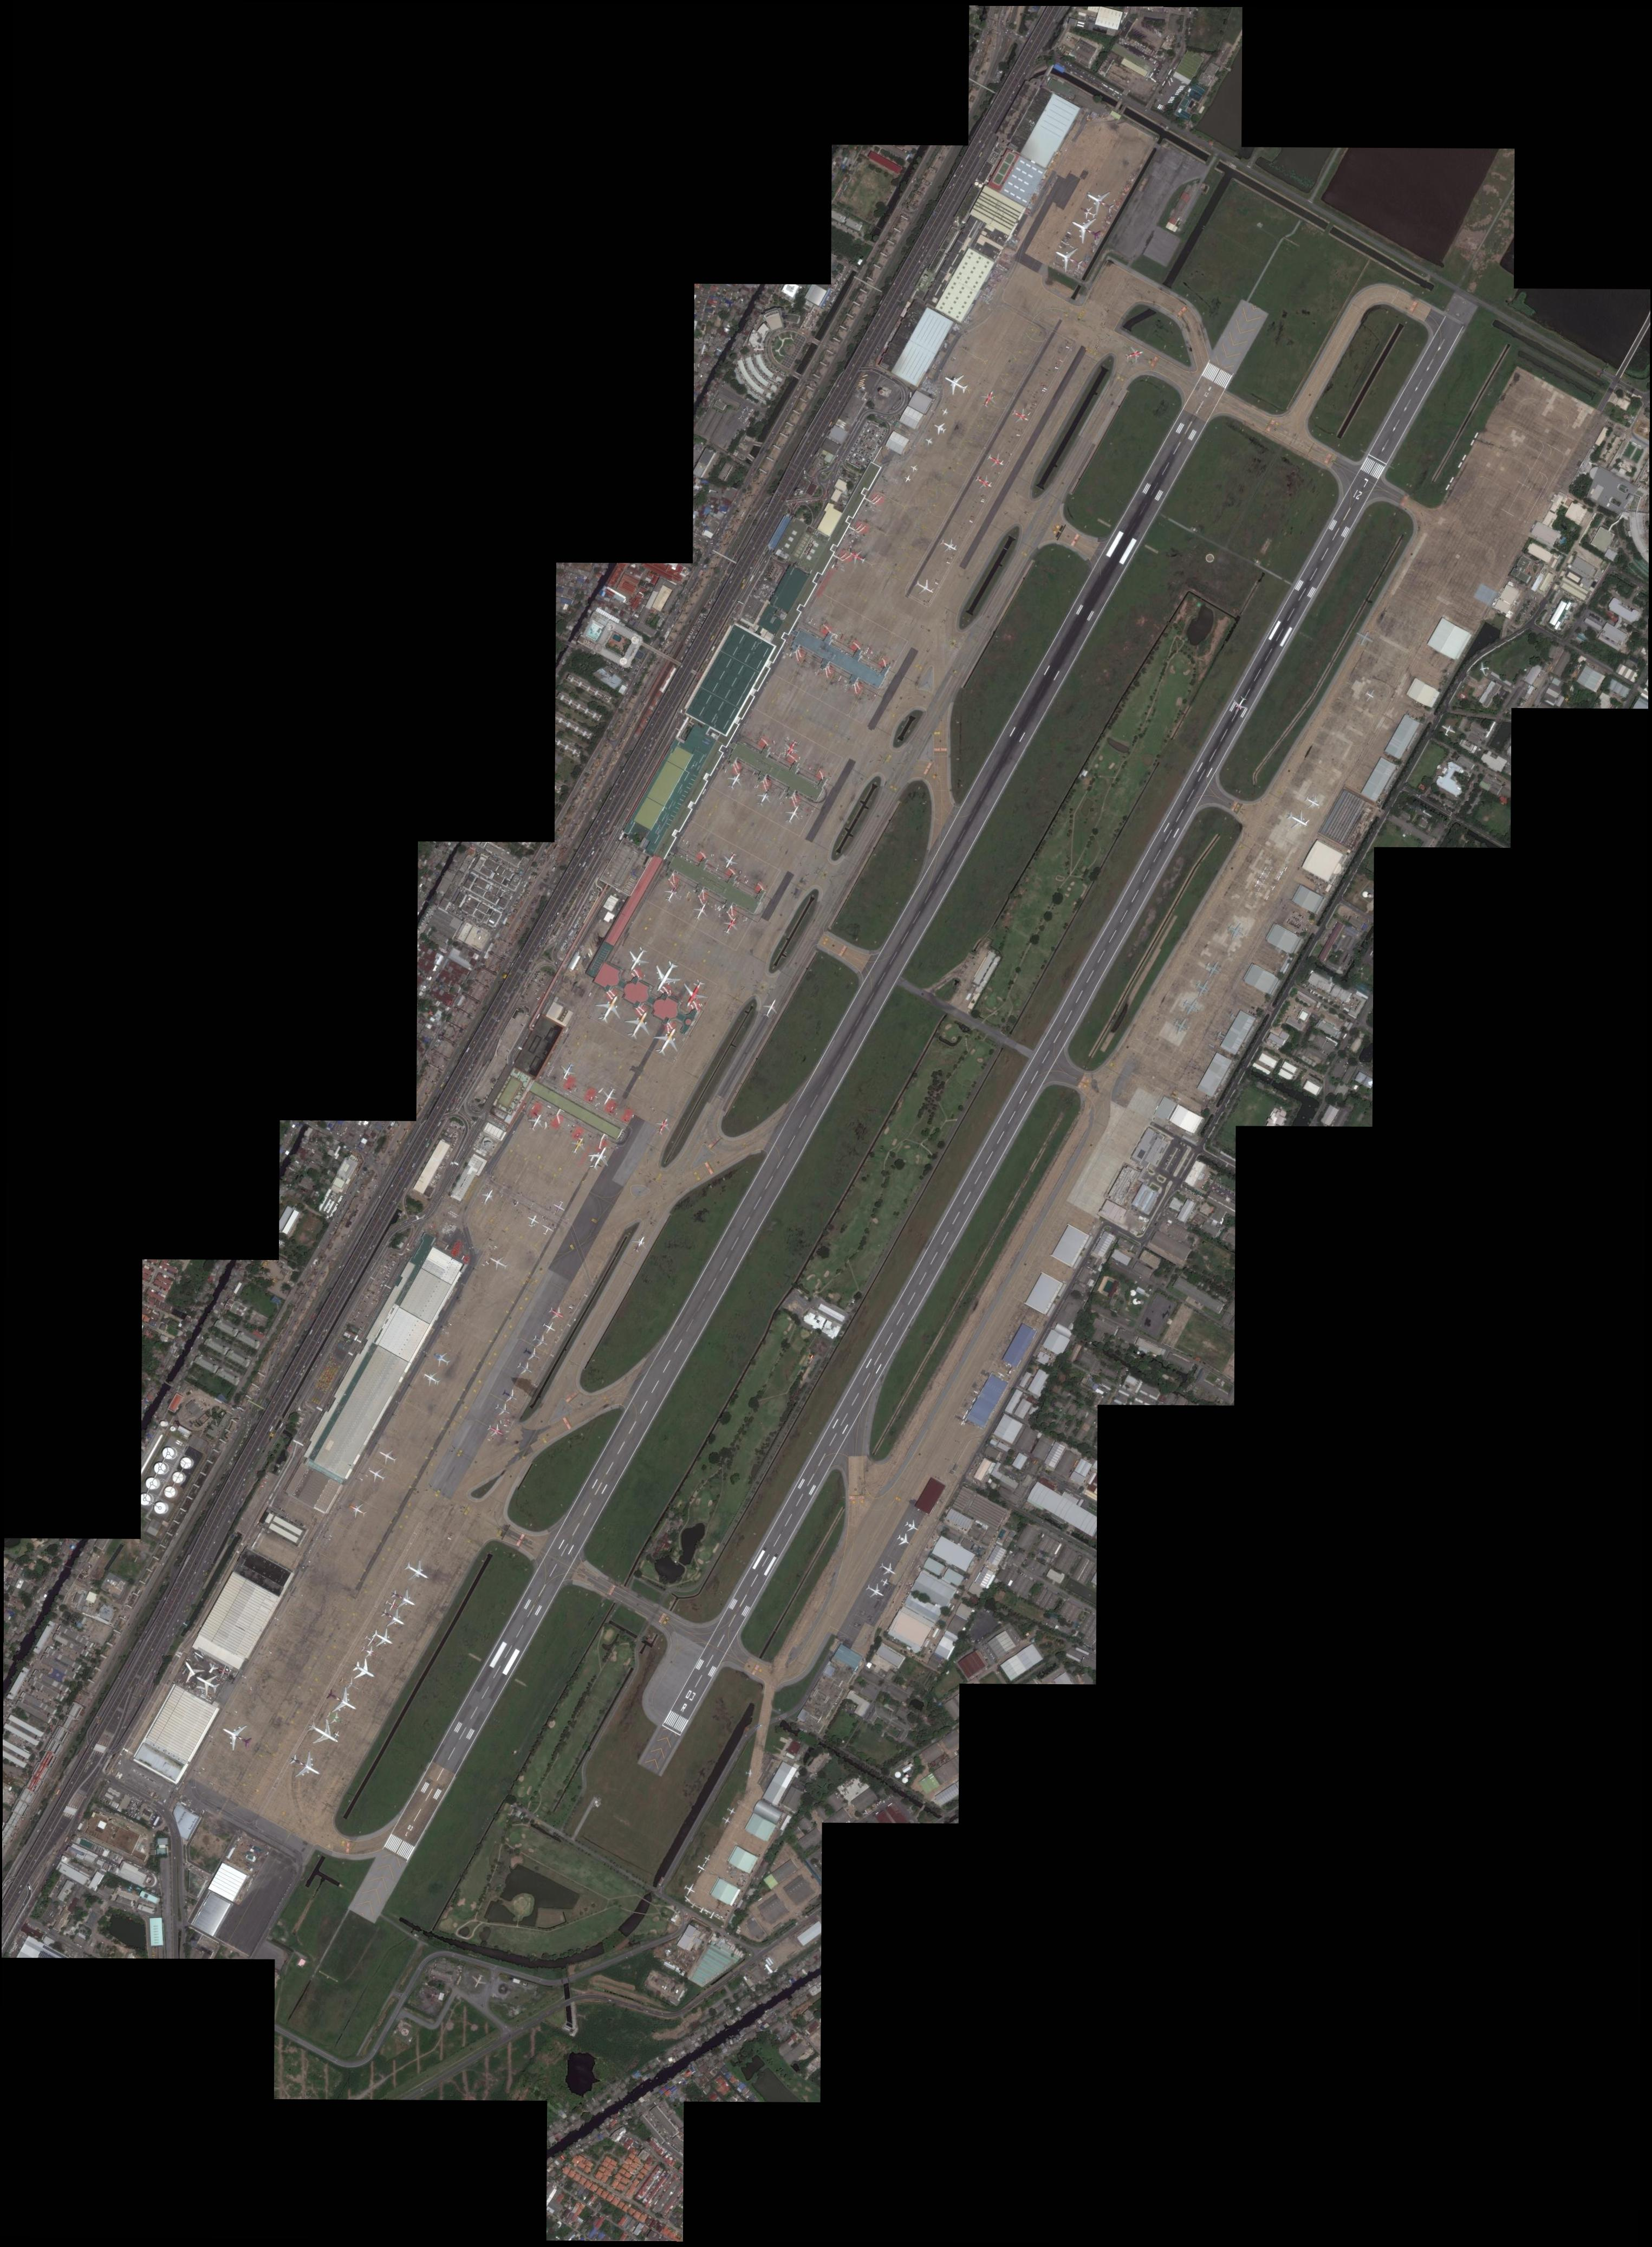plane: (285, 1746, 327, 1787), (646, 956, 686, 998), (303, 1714, 345, 1754), (322, 1681, 363, 1721), (217, 1716, 257, 1757), (1066, 208, 1106, 249), (648, 1021, 687, 1061), (590, 988, 629, 1028), (675, 973, 713, 1014), (620, 1005, 658, 1044), (1081, 183, 1120, 219), (1050, 241, 1087, 276), (622, 943, 654, 977), (401, 1556, 435, 1587), (584, 1140, 616, 1174), (939, 368, 972, 400), (191, 1667, 223, 1699), (388, 1583, 420, 1614), (349, 1656, 380, 1687), (377, 1605, 409, 1633), (1283, 806, 1313, 834), (369, 1624, 398, 1652), (177, 1658, 205, 1685), (912, 575, 939, 601), (597, 1083, 622, 1109), (782, 801, 806, 827), (759, 995, 783, 1021), (690, 898, 714, 924), (486, 1250, 511, 1274), (375, 1445, 400, 1468), (724, 769, 747, 794), (720, 913, 743, 937), (863, 1580, 888, 1603), (525, 1111, 549, 1134), (365, 1463, 389, 1486), (984, 449, 1008, 472), (719, 848, 742, 872), (978, 387, 1000, 411), (1225, 919, 1247, 944), (337, 1673, 362, 1695), (1229, 693, 1251, 719), (555, 1060, 578, 1083), (420, 1367, 444, 1390), (972, 470, 996, 493), (1180, 995, 1202, 1018), (567, 1133, 590, 1157), (347, 1498, 369, 1522), (629, 1232, 652, 1256), (1202, 957, 1225, 981), (661, 883, 684, 906), (753, 787, 776, 810), (652, 1115, 674, 1138), (430, 1348, 453, 1371), (1009, 405, 1032, 427), (937, 535, 960, 557), (1353, 628, 1376, 649), (877, 1559, 900, 1580), (1192, 977, 1213, 1000), (522, 1343, 544, 1365), (781, 737, 802, 759), (847, 547, 868, 568), (359, 1642, 381, 1664), (323, 1708, 346, 1729), (514, 1358, 536, 1379), (499, 1386, 521, 1407), (1302, 792, 1323, 814), (1170, 1015, 1191, 1037), (545, 1303, 567, 1324), (485, 1420, 506, 1441), (478, 1187, 499, 1208), (468, 1971, 489, 1992), (492, 1400, 514, 1420), (1123, 345, 1145, 365), (1078, 203, 1099, 222), (902, 1517, 922, 1537), (894, 1530, 913, 1550), (530, 1332, 550, 1350), (362, 1632, 380, 1650), (550, 1198, 569, 1216), (382, 1596, 402, 1613), (541, 1319, 559, 1337), (539, 1220, 557, 1238), (932, 419, 949, 437), (524, 1211, 542, 1230), (1439, 722, 1457, 739), (682, 1881, 697, 1898), (217, 1663, 232, 1680), (1363, 687, 1377, 704), (1479, 661, 1491, 676), (695, 1862, 707, 1875), (720, 1814, 733, 1826), (879, 1576, 891, 1588), (923, 435, 935, 447), (726, 1806, 737, 1817), (909, 463, 920, 475), (696, 1905, 707, 1914), (703, 1853, 712, 1864), (940, 406, 950, 417), (333, 1729, 342, 1739), (688, 1901, 699, 1910), (996, 1371, 1006, 1380), (903, 473, 912, 484), (703, 1907, 713, 1917), (745, 1769, 754, 1777), (683, 1895, 692, 1904)
